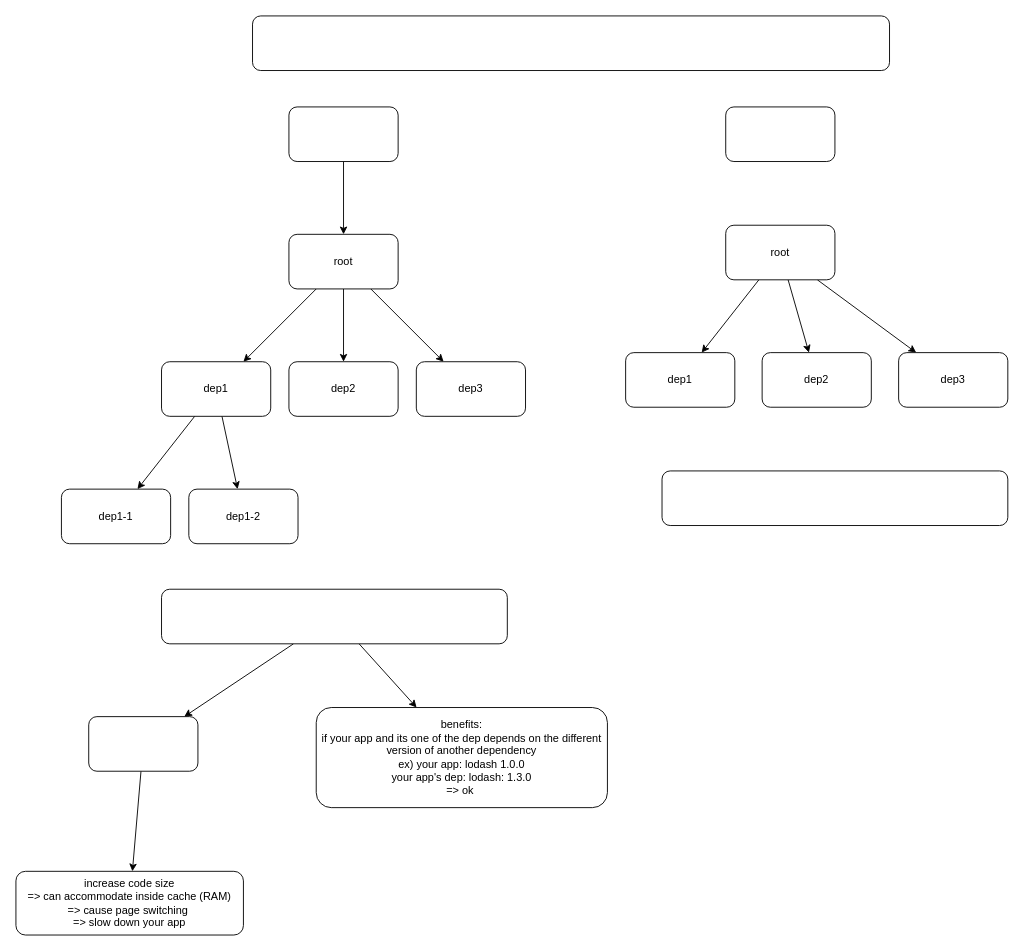
The diagram is 1024 pixels wide and 951 high, and some of its shapes have lost their labels. Each missing label, with the centre of its shape:
drawback: point (143, 743)
it is totally ok to install different version of the same package: point (334, 616)
npm: point (343, 134)
npm dependency management schema is different from other dependency management: point (571, 43)
only one version of any particular package can be installed at a time: point (834, 498)
other DM tools (flat model): point (780, 134)
